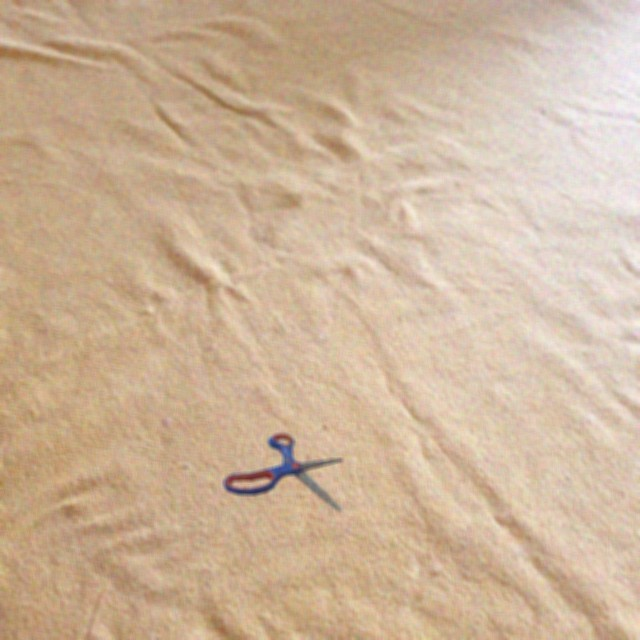scissors: (223, 433, 343, 511)
